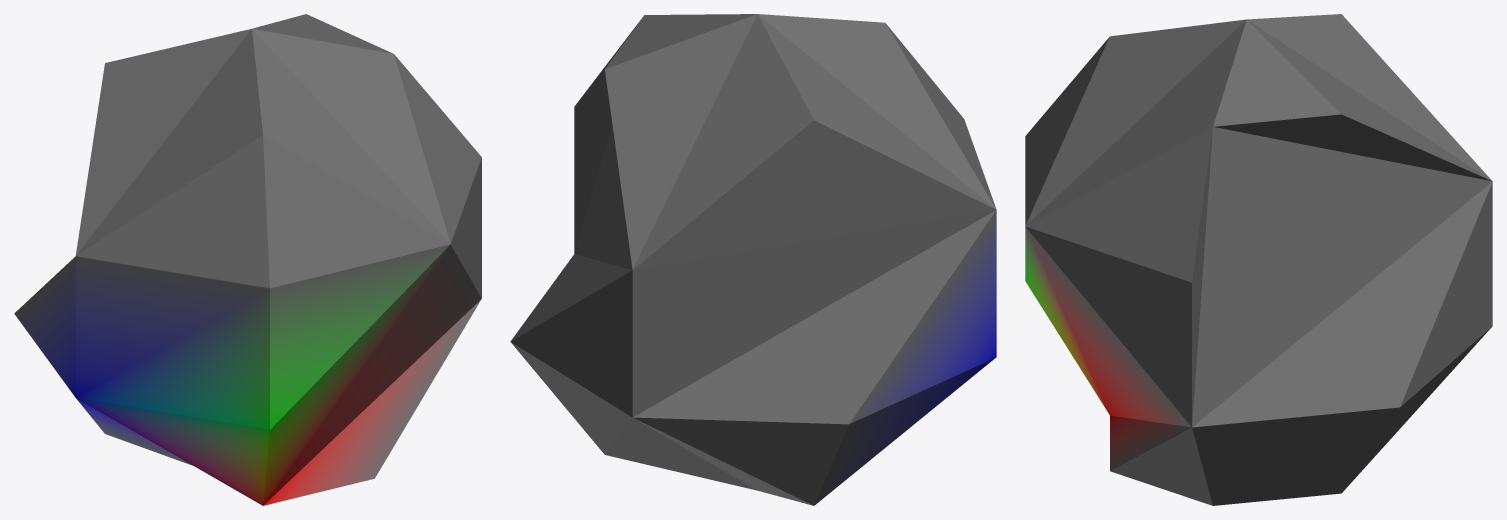
The model's file is gate_cleaning_conquest_0.obj.
3 views of the same model, side by side, from view 1: azimuth 30°, elevation 25°; view 2: azimuth 150°, elevation 25°; view 3: azimuth 270°, elevation 25° (orthographic). The views are drawn at different scales.
Bounding box in the file's own units: 1.85 × 2 × 1.81.
